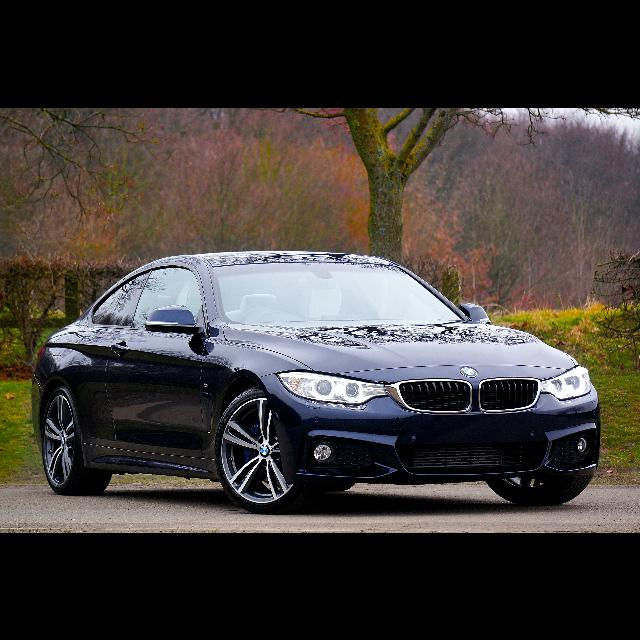cars: (27, 237, 606, 517)
